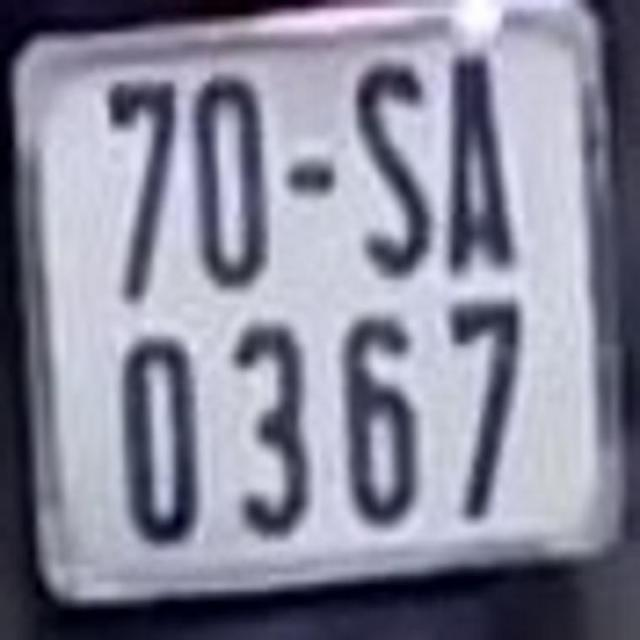0: (116, 334, 200, 548), (188, 70, 270, 284)
3: (229, 320, 311, 542)
6: (334, 310, 421, 532)
7: (100, 76, 186, 302), (443, 296, 526, 525)
A: (442, 61, 521, 276)
S: (346, 56, 434, 277)
